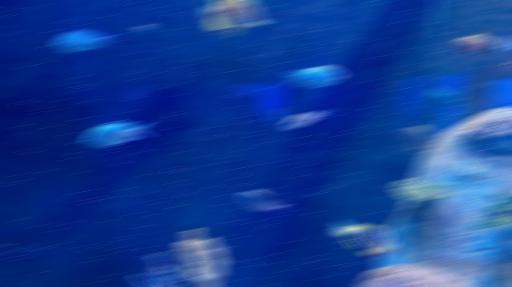Fish: (203, 0, 266, 36), (333, 221, 394, 254), (84, 121, 151, 146), (284, 65, 343, 86), (55, 31, 116, 51), (240, 189, 287, 213), (284, 111, 325, 128), (457, 35, 492, 51), (126, 86, 143, 100), (136, 24, 155, 32), (498, 41, 511, 51)
